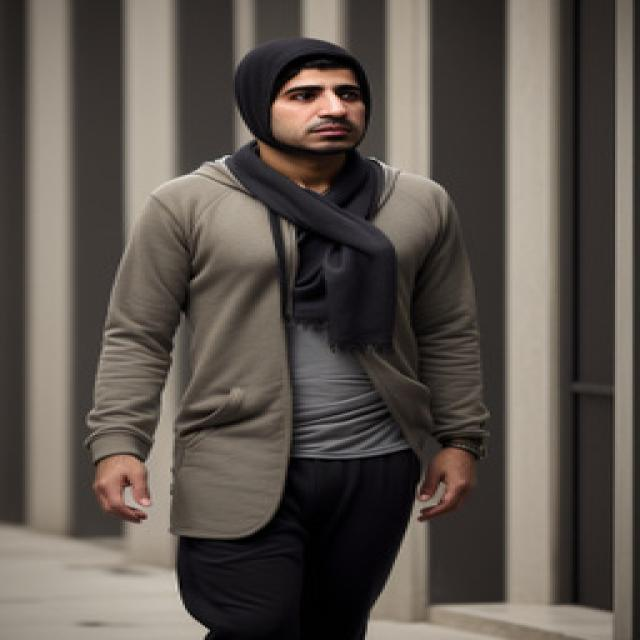Ai human 2: (80, 23, 507, 640)
